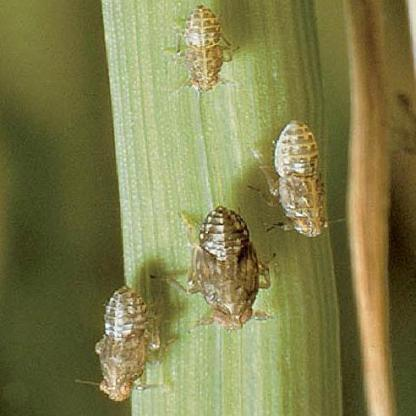brown-planthopper: (193, 206, 259, 332), (270, 118, 330, 238), (96, 285, 152, 401), (181, 5, 232, 90)
